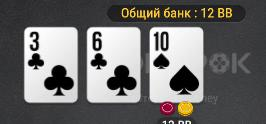10s: (151, 28, 202, 101)
3c: (24, 28, 77, 101)
6c: (88, 28, 138, 103)
